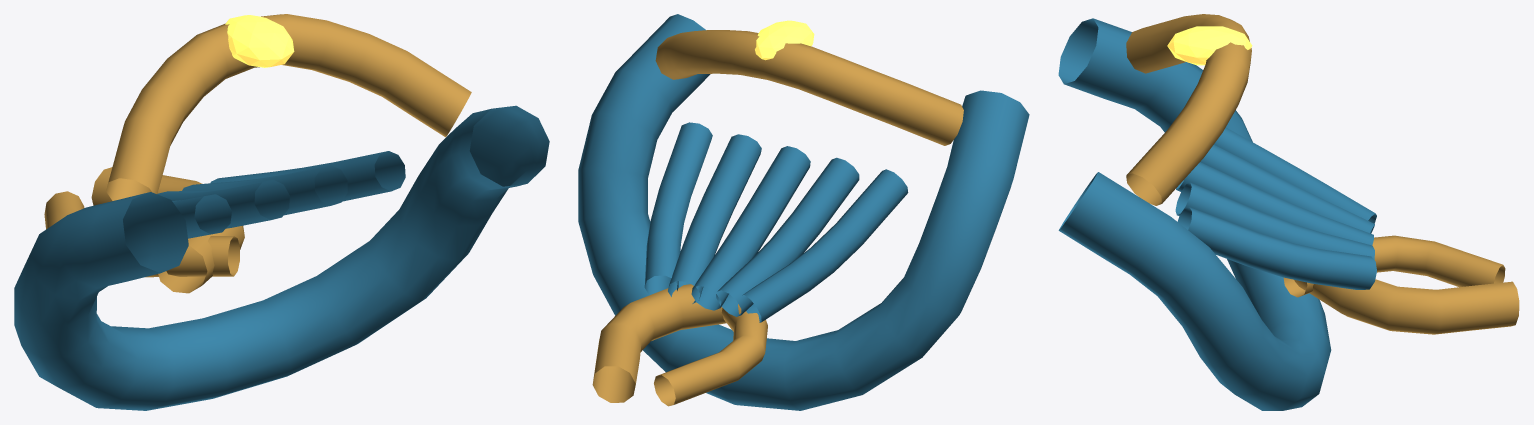
The model's file is helmet_horizon.glb.
3 views of the same model, side by side, from view 1: azimuth 30°, elevation 25°; view 2: azimuth 150°, elevation 25°; view 3: azimuth 270°, elevation 25° (orthographic). The views are drawn at different scales.
Visible parts, largest first — view 1: CrownBand, BrowGuard, CrownRib.004, CrownRib.003, CrownRib.002, ForeheadGem, FeatherCrest2, FeatherCrest, CrownRib.001; view 2: CrownBand, BrowGuard, CrownRib, FeatherCrest, CrownRib.001, CrownRib.002, CrownRib.004, CrownRib.003, FeatherCrest2, ForeheadGem; view 3: CrownBand, BrowGuard, FeatherCrest, CrownRib.004, FeatherCrest2, CrownRib.003, CrownRib.002, CrownRib.001, CrownRib, ForeheadGem.
Boxes of the visible parts, left/top/right/bottom form: CrownBand: left=14, top=105, right=549, bottom=410; BrowGuard: left=106, top=14, right=471, bottom=200; CrownRib.004: left=210, top=151, right=405, bottom=201; CrownRib.003: left=182, top=165, right=347, bottom=215; CrownRib.002: left=157, top=179, right=289, bottom=228; ForeheadGem: left=225, top=15, right=294, bottom=67; FeatherCrest2: left=44, top=191, right=239, bottom=277; FeatherCrest: left=91, top=167, right=244, bottom=293; CrownRib.001: left=172, top=194, right=231, bottom=238; CrownBand: left=578, top=14, right=1029, bottom=410; BrowGuard: left=655, top=30, right=963, bottom=145; CrownRib: left=742, top=169, right=908, bottom=322; FeatherCrest: left=592, top=284, right=726, bottom=402; CrownRib.001: left=716, top=157, right=859, bottom=316; CrownRib.002: left=691, top=146, right=810, bottom=310; CrownRib.004: left=644, top=122, right=712, bottom=294; CrownRib.003: left=668, top=134, right=761, bottom=303; FeatherCrest2: left=654, top=304, right=767, bottom=406; ForeheadGem: left=755, top=20, right=814, bottom=60; CrownBand: left=1058, top=18, right=1331, bottom=410; BrowGuard: left=1126, top=14, right=1251, bottom=205; FeatherCrest: left=1294, top=279, right=1519, bottom=334; CrownRib.004: left=1177, top=207, right=1376, bottom=289; FeatherCrest2: left=1283, top=235, right=1505, bottom=297; CrownRib.003: left=1175, top=182, right=1374, bottom=259; CrownRib.002: left=1176, top=162, right=1373, bottom=245; CrownRib.001: left=1200, top=145, right=1374, bottom=233; CrownRib: left=1214, top=127, right=1376, bottom=223; ForeheadGem: left=1167, top=26, right=1252, bottom=65.
Size of the model in its own units: 0.7287 by 0.5964 by 0.7018.
